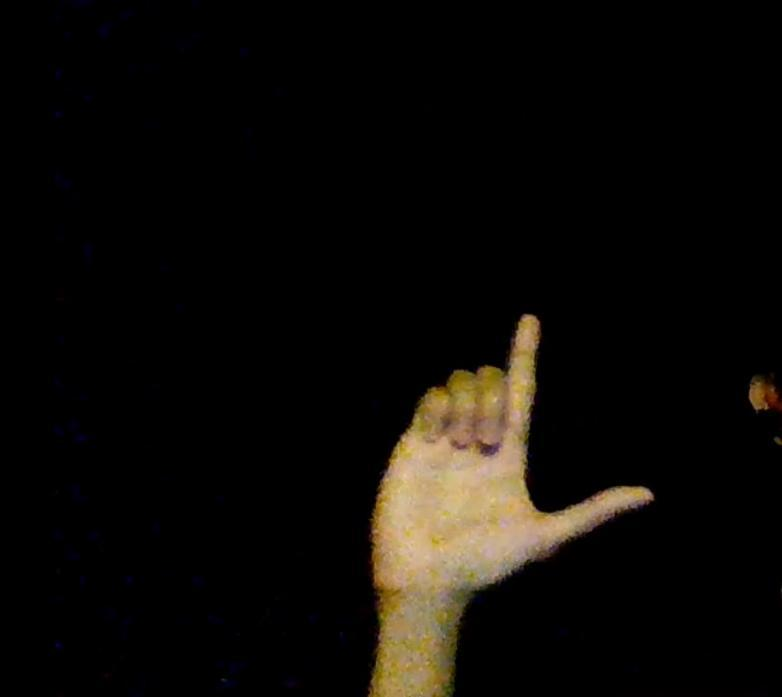l: (368, 312, 653, 593)
